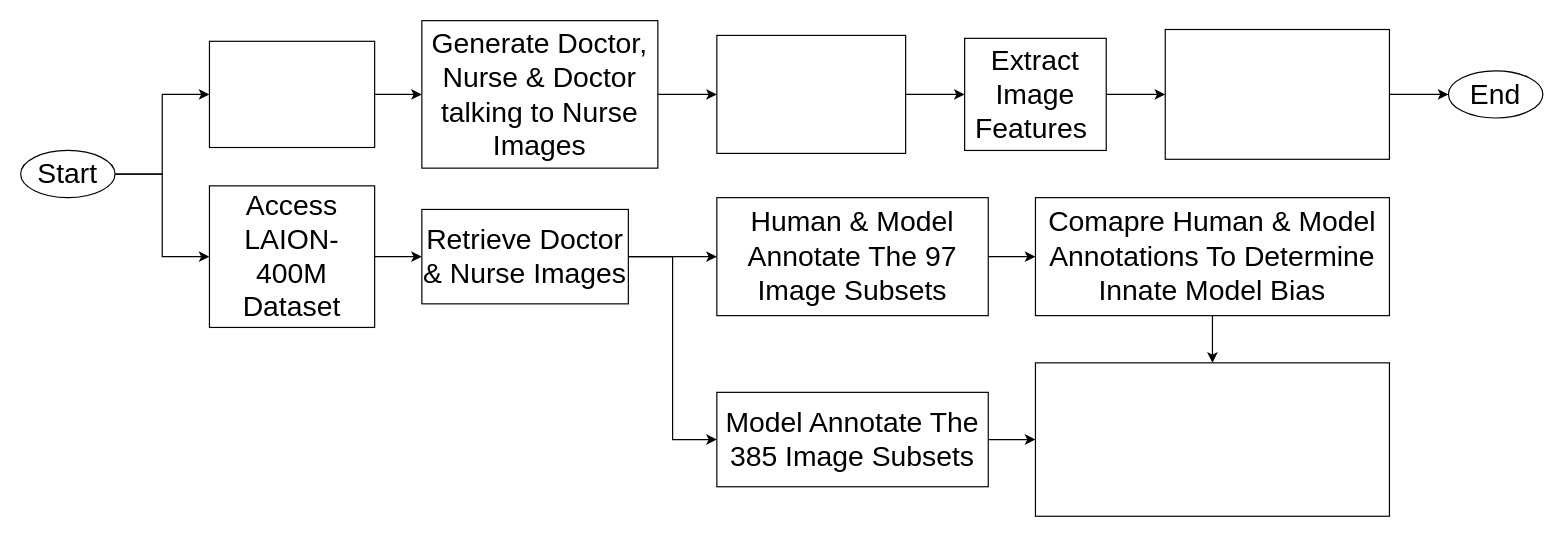
Image size: 1563x537. Some labels were removed from this diagram. The centre of each missing label's shape, as x and y in pixels:
"Access Generative Models" belongs at (291,94).
"Extract The Image Metrics And Conclude On The Presence Of Bias In The Dataset." belongs at (1211,439).
"Model Annotate the Images" belongs at (811,93).
"Visualise Image Feature & Derive Conclusion" belongs at (1276,93).
